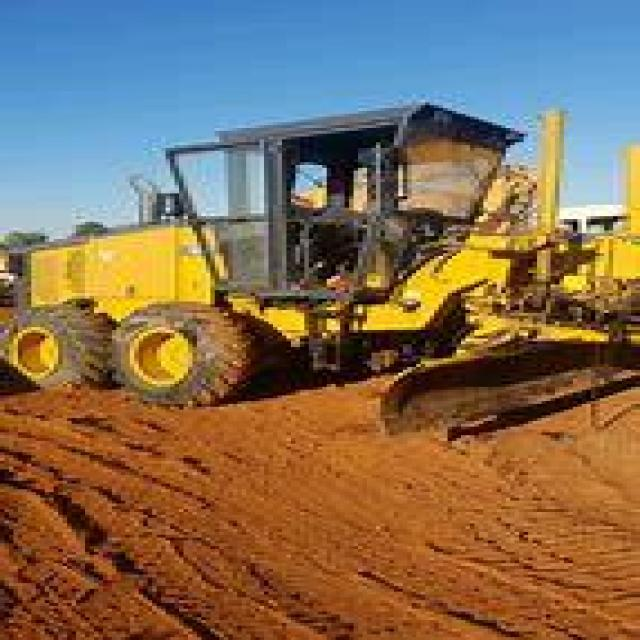Grader: (0, 74, 636, 441)
